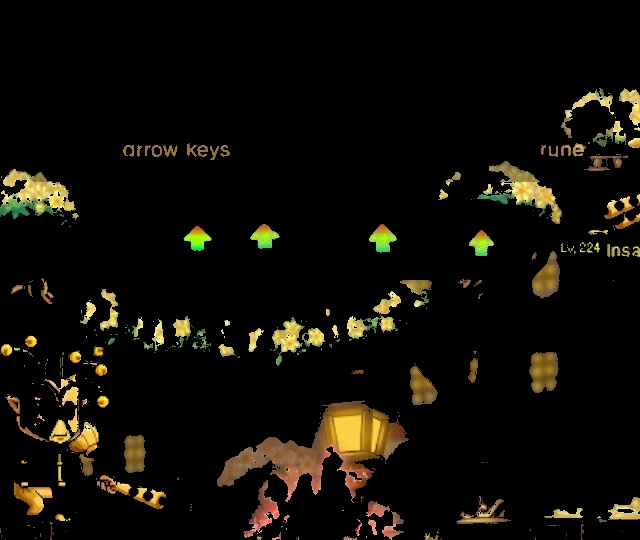up: (242, 218, 289, 261), (176, 218, 222, 261), (360, 220, 403, 262), (462, 226, 501, 264)
